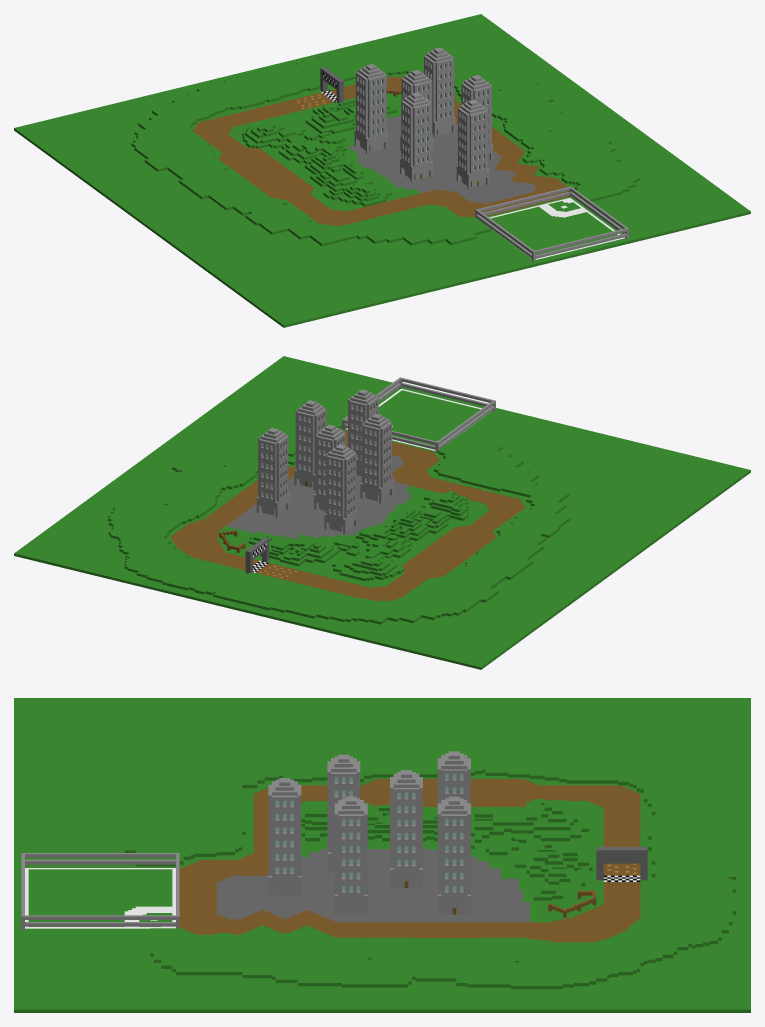
File: Track.obj
3 views of the same model, one above another, from view 1: azimuth 30°, elevation 25°; view 2: azimuth 150°, elevation 25°; view 3: azimuth 270°, elevation 25° (orthographic). The views are drawn at different scales.
Bounding box in the file's own units: 20 × 3.4 × 20.
Materials: 1 (1 with a texture image).
